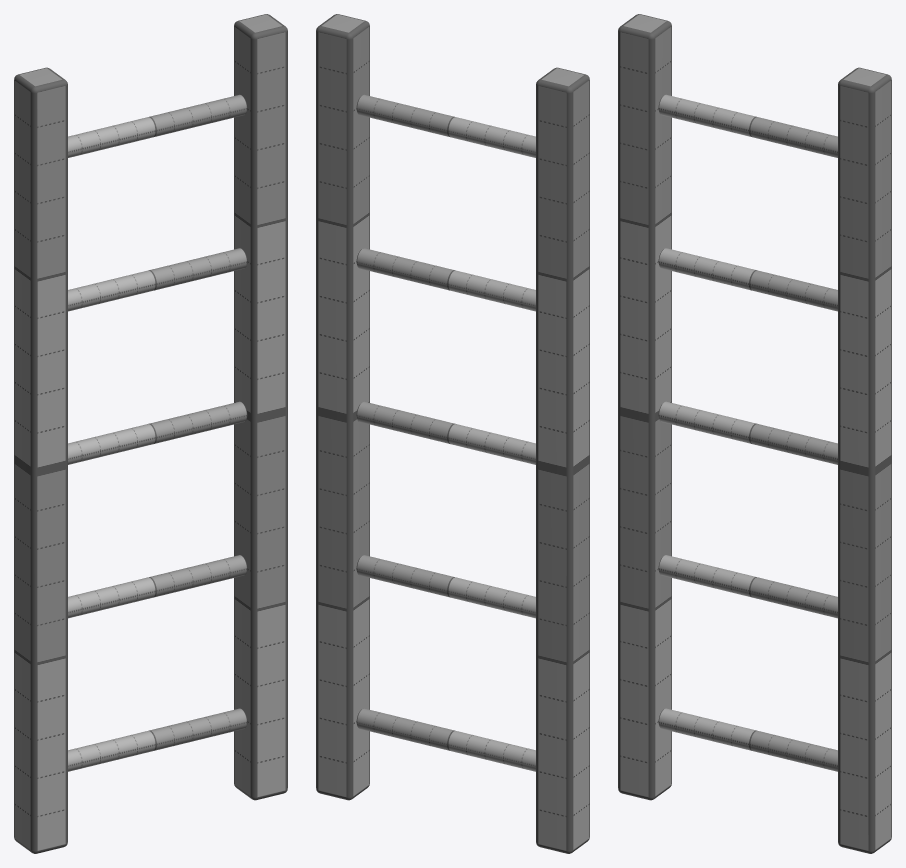
The model's file is Ladder0x2x0.fbx.
The picture shows the model from 3 angles, left to right: view 1: azimuth 30°, elevation 25°; view 2: azimuth 150°, elevation 25°; view 3: azimuth 330°, elevation 25°; orthographic projection.
Parts seen in each view (by area): view 1: Ladder0x2x0; view 2: Ladder0x2x0; view 3: Ladder0x2x0.
Boxes of the visible parts, <box> form: Ladder0x2x0: <box>14,14,287,853</box>; Ladder0x2x0: <box>316,14,589,853</box>; Ladder0x2x0: <box>618,14,891,853</box>.
Bounding box in the file's own units: 70 × 200 × 10.
